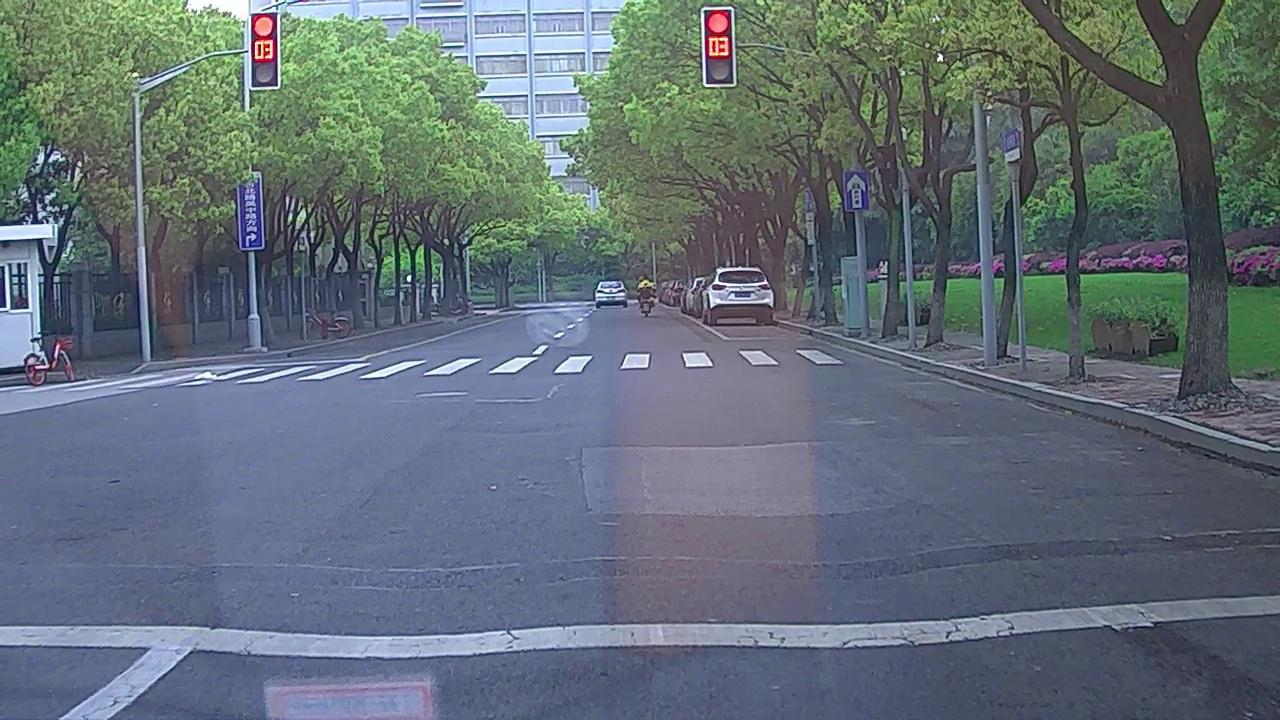traffic_light: (703, 9, 735, 86), (250, 13, 279, 90)
